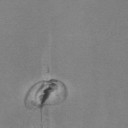slag inclusion: (23, 78, 68, 122)
